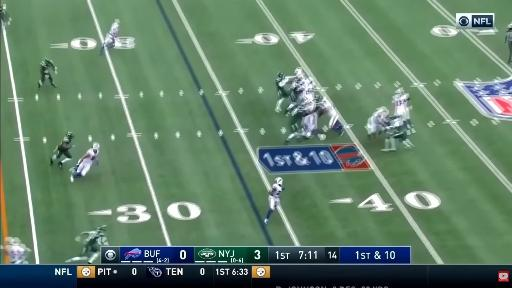Helmet: (5, 237, 21, 245), (66, 132, 74, 140), (295, 68, 303, 76), (96, 225, 106, 230), (275, 178, 282, 185), (379, 107, 386, 114), (395, 88, 404, 93), (93, 143, 99, 150), (2, 3, 6, 11), (45, 57, 51, 62), (278, 72, 284, 77), (115, 19, 119, 23), (508, 23, 511, 28)
Jersey: (317, 98, 340, 128), (83, 229, 107, 253), (6, 244, 28, 264), (387, 117, 406, 138), (393, 94, 409, 118), (276, 73, 289, 98), (105, 23, 119, 43), (371, 110, 386, 125), (40, 59, 55, 73), (83, 149, 98, 163), (57, 138, 71, 153), (107, 24, 119, 39), (270, 184, 282, 198)
Player: (66, 226, 108, 264), (286, 113, 326, 144), (276, 68, 303, 112), (382, 116, 414, 151), (316, 96, 344, 136), (71, 143, 99, 182), (393, 88, 413, 134), (264, 178, 284, 223), (50, 132, 74, 168), (0, 237, 31, 264), (366, 107, 388, 140), (100, 19, 119, 55), (275, 72, 290, 112), (38, 58, 57, 89), (0, 4, 11, 26)
